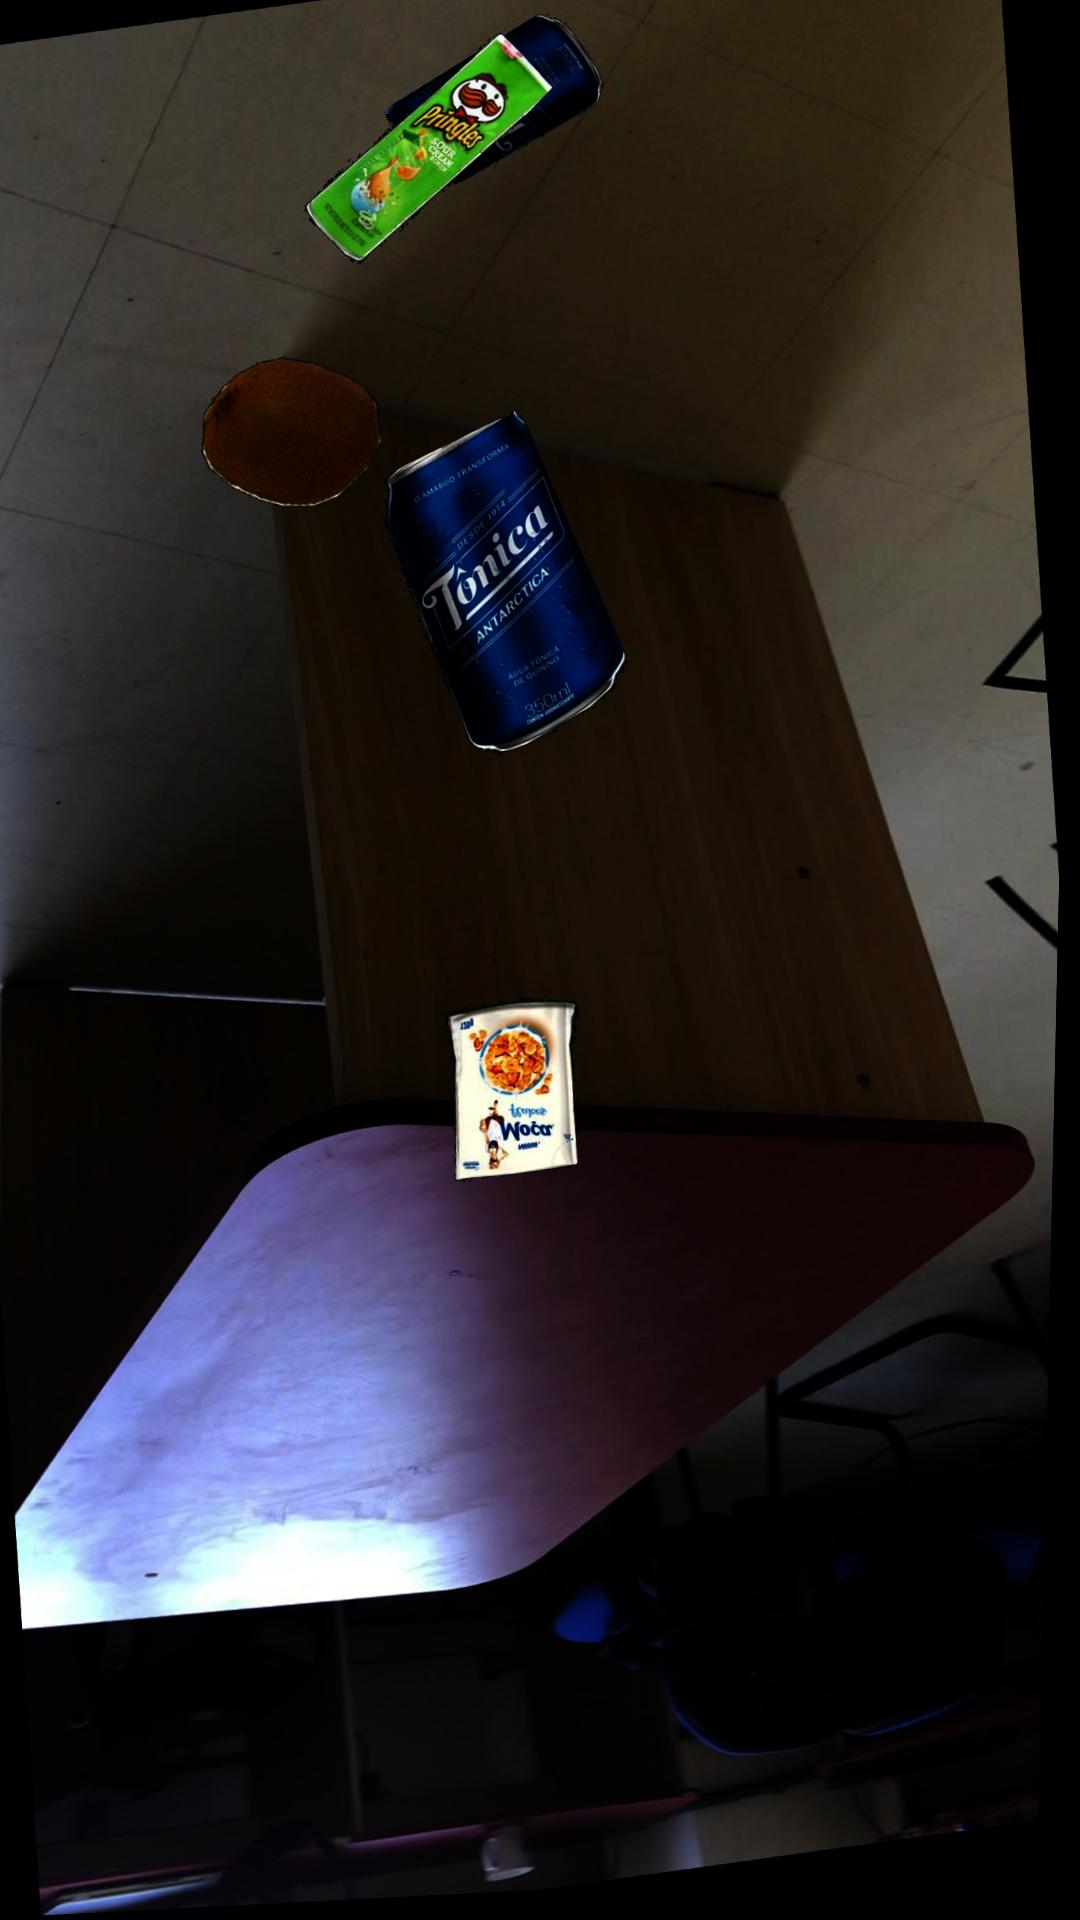corn flakes: (452, 1004, 584, 1187)
kiwi: (204, 361, 384, 512)
pringles: (307, 40, 554, 265)
tonic: (388, 417, 630, 762), (385, 21, 603, 189)
